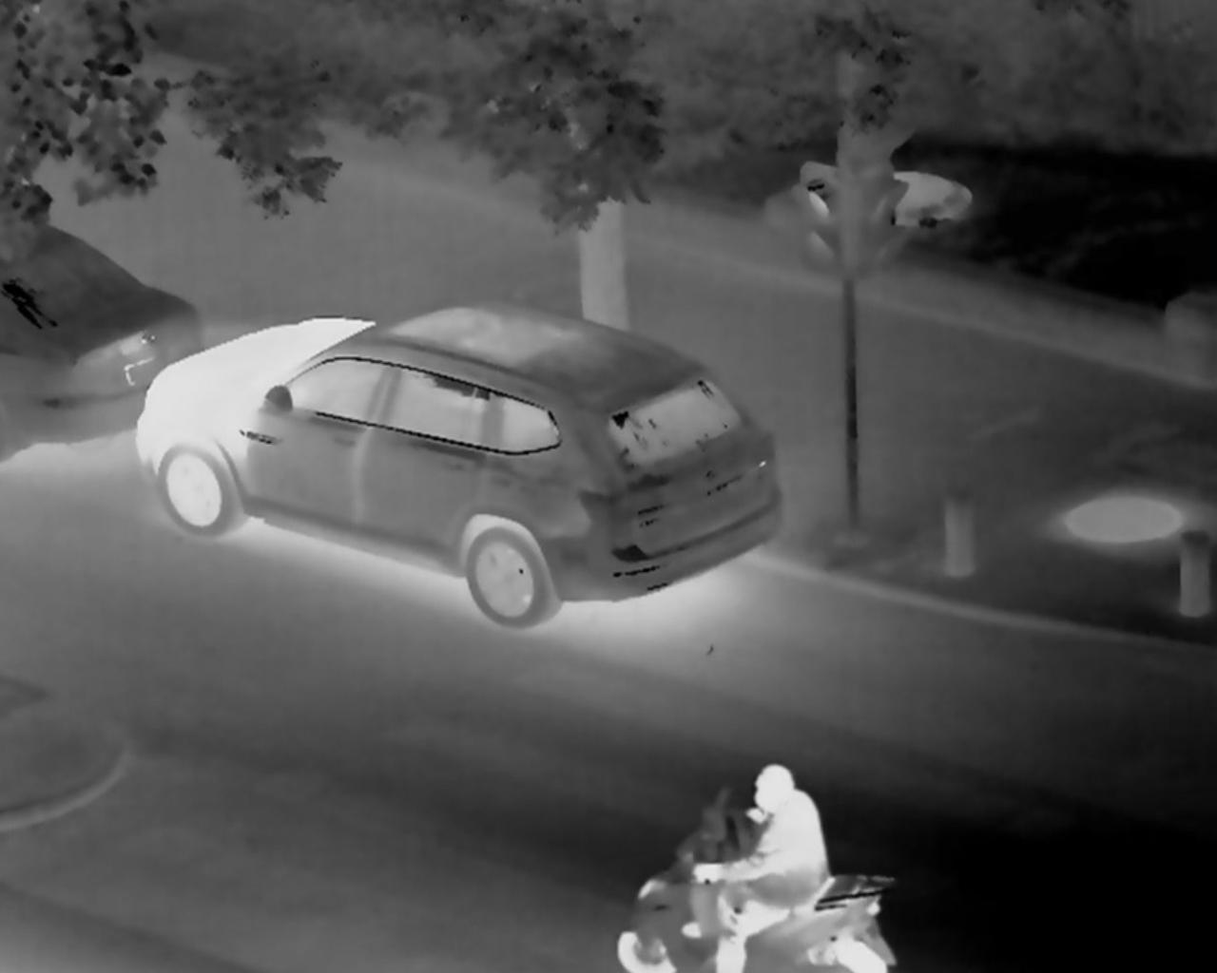person: (678, 745, 852, 952)
